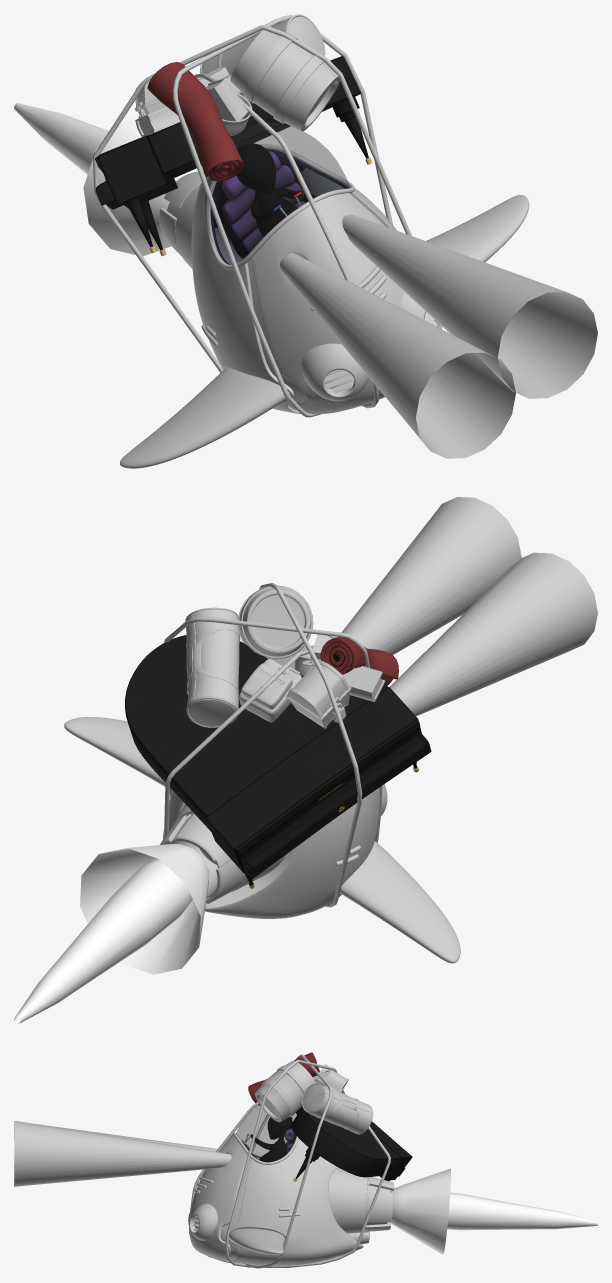
The model's file is alien_explorer_only.obj.
The picture shows the model from 3 angles, top to bottom: view 1: azimuth 30°, elevation 25°; view 2: azimuth 150°, elevation 25°; view 3: azimuth 270°, elevation 25°; orthographic projection. The views are drawn at different scales.
Visible parts, largest first — view 1: Object_52, Object_6, Object_12, Object_24, Object_4, Object_20, Object_14, Object_10, Object_26, Object_16, Object_8, Object_54 (+3 smaller); view 2: Object_24, Object_52, Object_6, Object_14, Object_54, Object_4, Object_20, Object_8, Object_22, Object_28, Object_26, Object_48; view 3: Object_6, Object_52, Object_14, Object_24, Object_8, Object_4, Object_54, Object_20, Object_12, Object_16, Object_22, Object_26 (+1 smaller).
Boxes of the visible parts, x1,y1,x2,y2 form: Object_52: [280, 214, 597, 458]; Object_6: [120, 144, 529, 468]; Object_12: [205, 122, 350, 264]; Object_24: [95, 56, 372, 256]; Object_4: [92, 15, 411, 417]; Object_20: [230, 25, 340, 131]; Object_14: [14, 103, 203, 256]; Object_10: [210, 149, 348, 264]; Object_26: [147, 62, 243, 181]; Object_16: [236, 143, 302, 236]; Object_8: [159, 171, 205, 268]; Object_54: [200, 14, 325, 95]; Object_24: [125, 635, 431, 888]; Object_52: [341, 497, 597, 716]; Object_6: [64, 717, 460, 963]; Object_14: [14, 844, 209, 1023]; Object_54: [185, 607, 240, 727]; Object_4: [164, 583, 382, 907]; Object_20: [238, 585, 313, 659]; Object_8: [160, 804, 286, 903]; Object_22: [285, 660, 351, 728]; Object_28: [239, 659, 301, 722]; Object_26: [320, 637, 398, 685]; Object_48: [343, 666, 385, 701]; Object_6: [188, 1132, 363, 1267]; Object_52: [14, 1121, 231, 1186]; Object_14: [389, 1168, 597, 1254]; Object_24: [291, 1080, 412, 1181]; Object_8: [329, 1167, 394, 1244]; Object_4: [188, 1054, 390, 1268]; Object_54: [302, 1083, 373, 1134]; Object_20: [255, 1060, 316, 1122]; Object_12: [236, 1104, 296, 1161]; Object_16: [251, 1116, 292, 1162]; Object_22: [315, 1064, 348, 1091]; Object_26: [248, 1052, 319, 1105].
Bounding box in the file's own units: 0.8224 × 0.7279 × 1.77.
